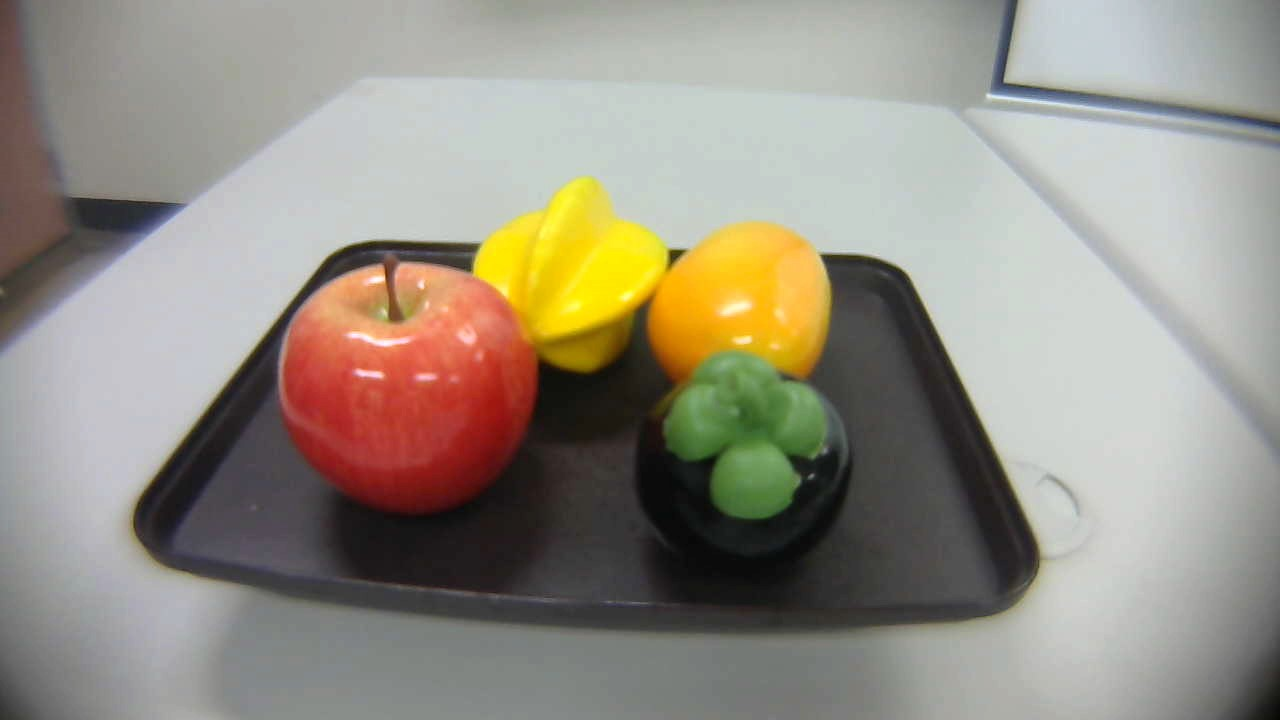mangosteen: (623, 341, 868, 568)
red apple: (278, 241, 542, 521)
star fruit: (465, 178, 680, 376)
yellow mango: (640, 201, 838, 411)
